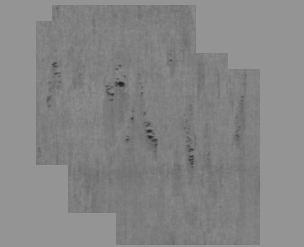oxl: (35, 10, 269, 237)
